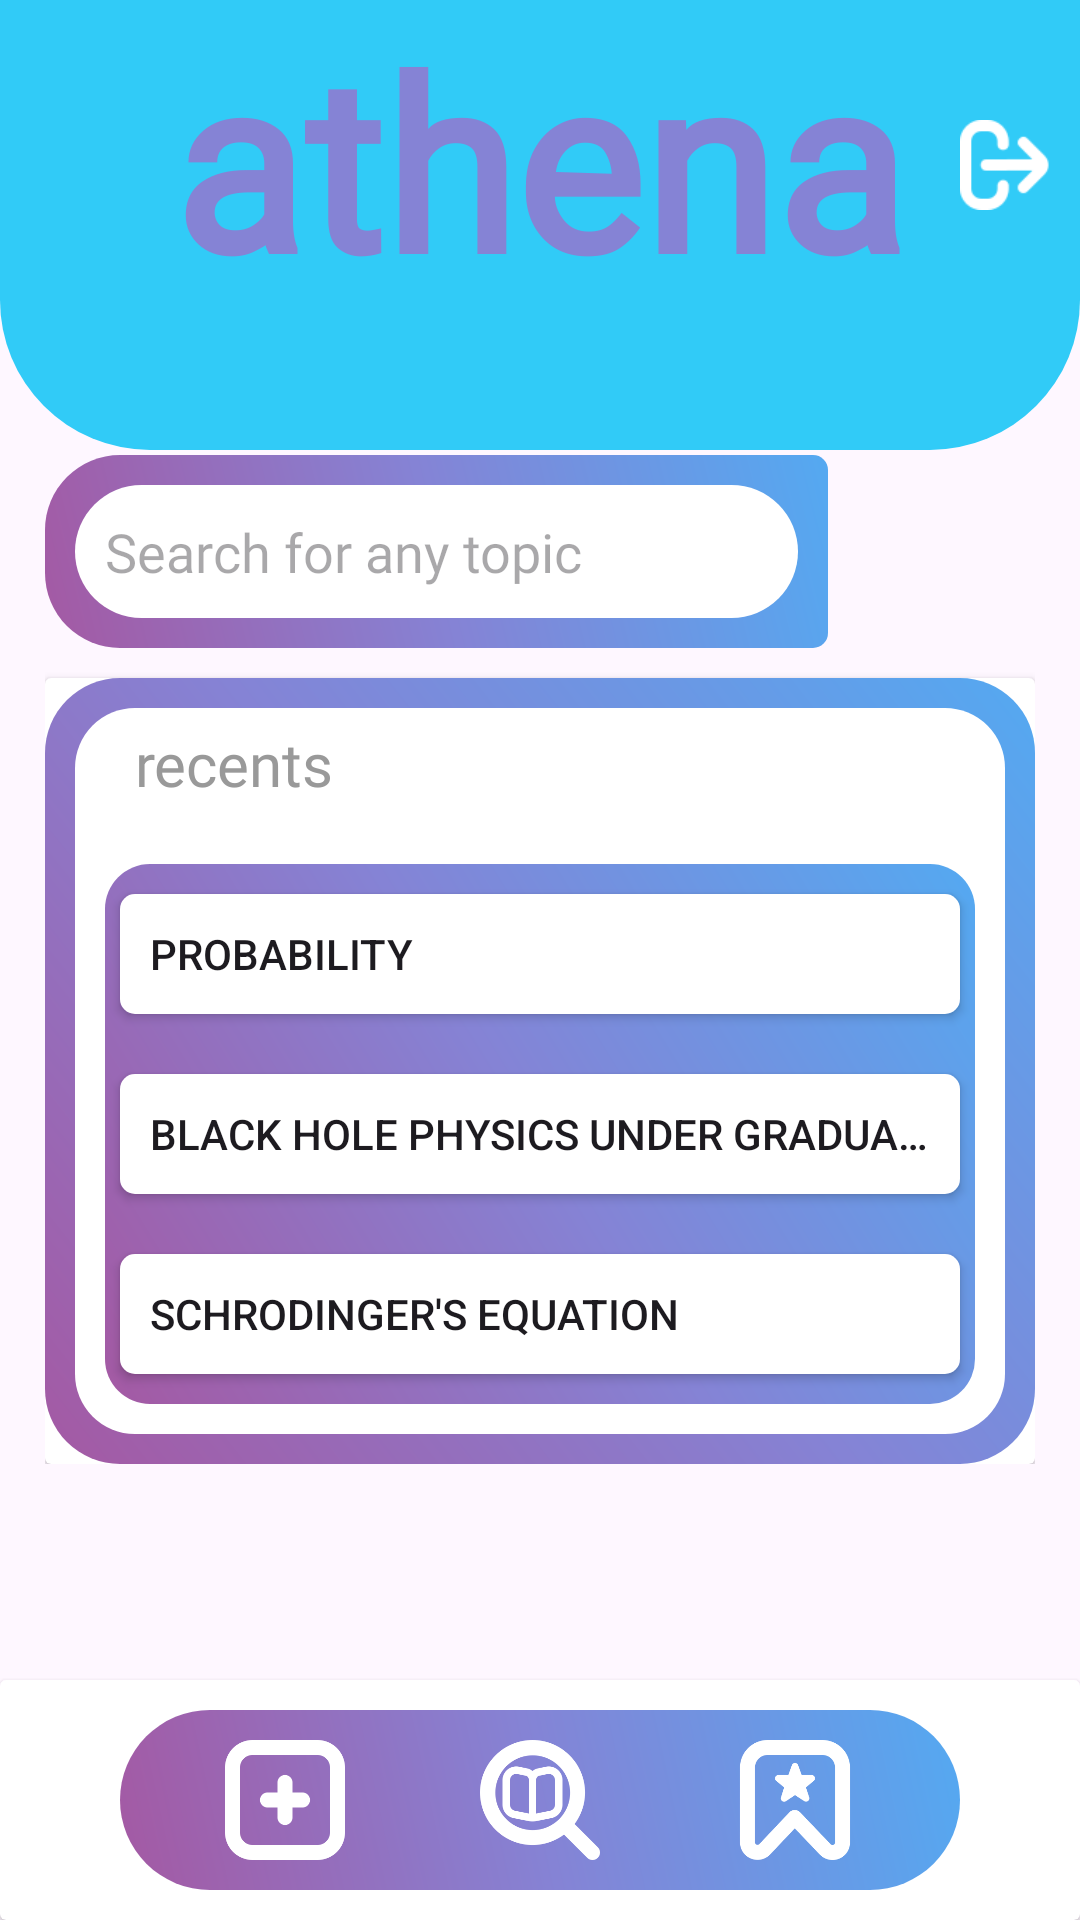

Locate icon controls on the screen. Image size 1080w x 1920h, boxes as (x1, y1, x2, y2).
home search: (480, 1740, 600, 1860)
